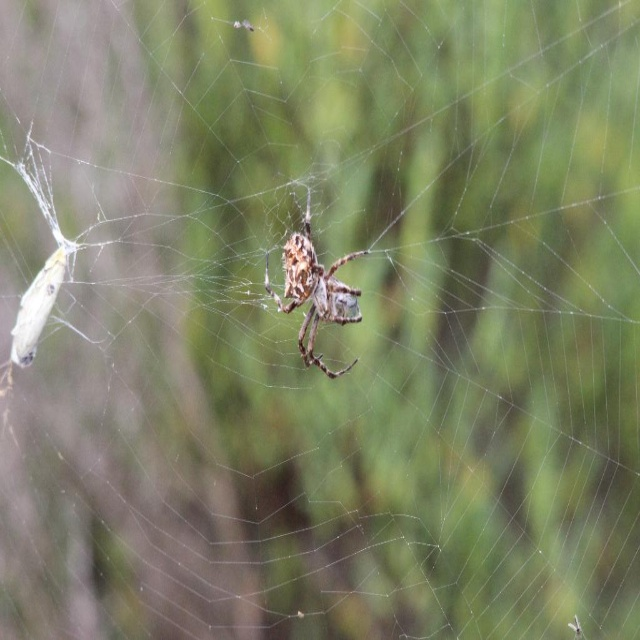Spider: (265, 189, 368, 379)
